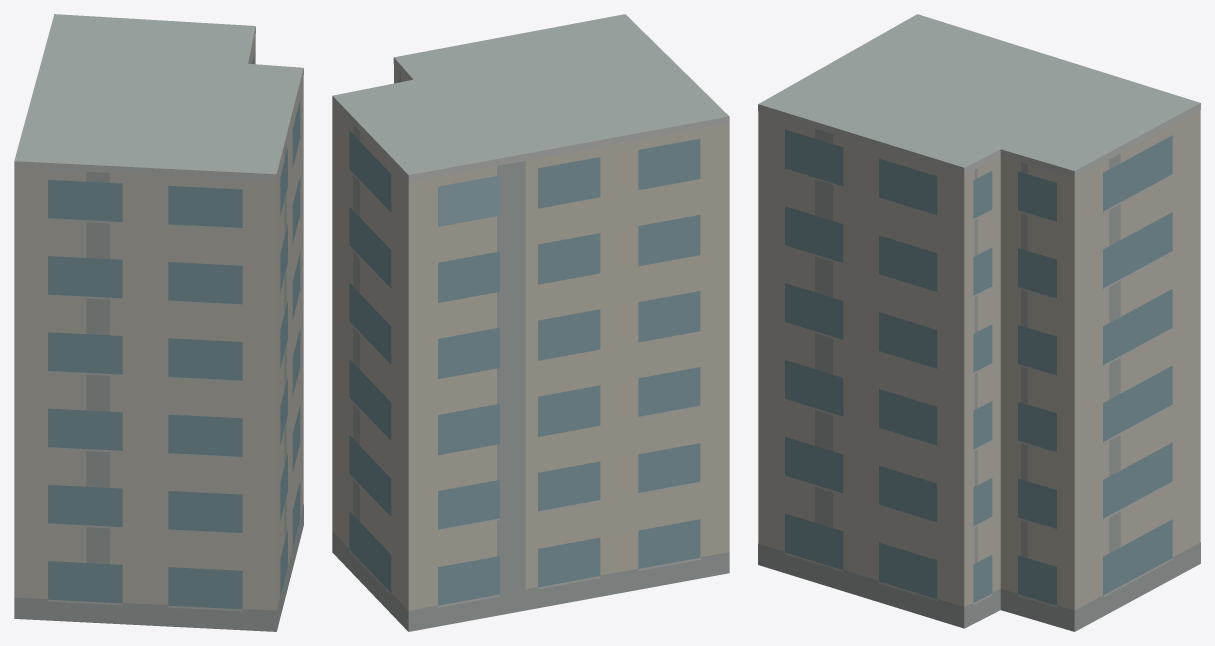
The model's file is survey-upis-32866865.glb.
3 renders of one model, left to right at view 1: azimuth 30°, elevation 25°; view 2: azimuth 150°, elevation 25°; view 3: azimuth 270°, elevation 25°, orthographic.
Parts seen in each view (by area): view 1: survey-upis-32866865.tmp; view 2: survey-upis-32866865.tmp; view 3: survey-upis-32866865.tmp.
Boxes of the visible parts, <box> form: survey-upis-32866865.tmp: <box>14,14,303,631</box>; survey-upis-32866865.tmp: <box>332,14,729,631</box>; survey-upis-32866865.tmp: <box>758,14,1200,631</box>.
Size of the model in its own units: 11.71 by 16 by 13.94.
